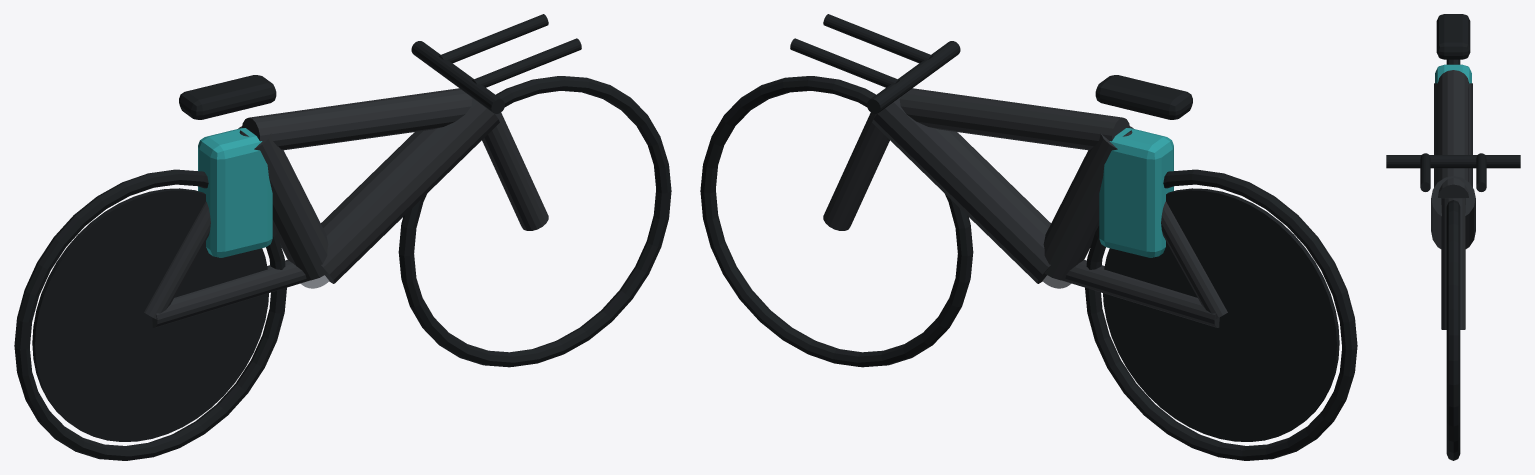
Rendered from bmc-speedmachine-kona-study.glb.
The picture shows the model from 3 angles, left to right: view 1: azimuth 30°, elevation 25°; view 2: azimuth 150°, elevation 25°; view 3: azimuth 270°, elevation 25°; orthographic projection. The views are drawn at different scales.
Visible parts, largest first — view 1: bmc-speedmachine-kona-study_REAR_DISC, bmc-speedmachine-kona-study_REAR_WHEEL, bmc-speedmachine-kona-study_FRONT_WHEEL, bmc-speedmachine-kona-study_DOWN_TUBE, bmc-speedmachine-kona-study_TOP_TUBE, bmc-speedmachine-kona-study_SPEEDMACHINE_STORAGE, bmc-speedmachine-kona-study_SEAT_TUBE, bmc-speedmachine-kona-study_CHAIN_STAY, bmc-speedmachine-kona-study_FORK, bmc-speedmachine-kona-study_SADDLE, bmc-speedmachine-kona-study_SEAT_STAY, bmc-speedmachine-kona-study_AERO_BASE (+2 smaller); view 2: bmc-speedmachine-kona-study_REAR_DISC, bmc-speedmachine-kona-study_REAR_WHEEL, bmc-speedmachine-kona-study_FRONT_WHEEL, bmc-speedmachine-kona-study_DOWN_TUBE, bmc-speedmachine-kona-study_TOP_TUBE, bmc-speedmachine-kona-study_SPEEDMACHINE_STORAGE, bmc-speedmachine-kona-study_SEAT_TUBE, bmc-speedmachine-kona-study_CHAIN_STAY, bmc-speedmachine-kona-study_FORK, bmc-speedmachine-kona-study_SADDLE, bmc-speedmachine-kona-study_SEAT_STAY, bmc-speedmachine-kona-study_AERO_BASE (+2 smaller); view 3: bmc-speedmachine-kona-study_FRONT_WHEEL, bmc-speedmachine-kona-study_TOP_TUBE, bmc-speedmachine-kona-study_AERO_BASE, bmc-speedmachine-kona-study_FORK, bmc-speedmachine-kona-study_SADDLE, bmc-speedmachine-kona-study_DOWN_TUBE, bmc-speedmachine-kona-study_SEAT_TUBE, bmc-speedmachine-kona-study_EXT_L, bmc-speedmachine-kona-study_EXT_R, bmc-speedmachine-kona-study_SPEEDMACHINE_STORAGE.
Boxes of the visible parts, left/top/right/bottom form: bmc-speedmachine-kona-study_REAR_DISC: left=32, top=188, right=268, bottom=441; bmc-speedmachine-kona-study_REAR_WHEEL: left=14, top=169, right=286, bottom=460; bmc-speedmachine-kona-study_FRONT_WHEEL: left=398, top=76, right=671, bottom=367; bmc-speedmachine-kona-study_DOWN_TUBE: left=321, top=97, right=499, bottom=283; bmc-speedmachine-kona-study_TOP_TUBE: left=242, top=88, right=472, bottom=150; bmc-speedmachine-kona-study_SPEEDMACHINE_STORAGE: left=198, top=128, right=272, bottom=257; bmc-speedmachine-kona-study_SEAT_TUBE: left=238, top=126, right=328, bottom=280; bmc-speedmachine-kona-study_CHAIN_STAY: left=152, top=260, right=309, bottom=327; bmc-speedmachine-kona-study_FORK: left=482, top=112, right=548, bottom=230; bmc-speedmachine-kona-study_SADDLE: left=179, top=75, right=276, bottom=119; bmc-speedmachine-kona-study_SEAT_STAY: left=144, top=130, right=248, bottom=319; bmc-speedmachine-kona-study_AERO_BASE: left=411, top=41, right=504, bottom=113; bmc-speedmachine-kona-study_REAR_DISC: left=1103, top=188, right=1339, bottom=441; bmc-speedmachine-kona-study_REAR_WHEEL: left=1085, top=169, right=1357, bottom=460; bmc-speedmachine-kona-study_FRONT_WHEEL: left=700, top=76, right=973, bottom=367; bmc-speedmachine-kona-study_DOWN_TUBE: left=872, top=97, right=1050, bottom=283; bmc-speedmachine-kona-study_TOP_TUBE: left=899, top=88, right=1129, bottom=150; bmc-speedmachine-kona-study_SPEEDMACHINE_STORAGE: left=1099, top=128, right=1173, bottom=257; bmc-speedmachine-kona-study_SEAT_TUBE: left=1043, top=126, right=1133, bottom=280; bmc-speedmachine-kona-study_CHAIN_STAY: left=1062, top=260, right=1219, bottom=327; bmc-speedmachine-kona-study_FORK: left=823, top=112, right=889, bottom=230; bmc-speedmachine-kona-study_SADDLE: left=1095, top=75, right=1192, bottom=119; bmc-speedmachine-kona-study_SEAT_STAY: left=1123, top=130, right=1227, bottom=319; bmc-speedmachine-kona-study_AERO_BASE: left=867, top=41, right=960, bottom=113; bmc-speedmachine-kona-study_FRONT_WHEEL: left=1446, top=200, right=1460, bottom=460; bmc-speedmachine-kona-study_TOP_TUBE: left=1438, top=70, right=1468, bottom=197; bmc-speedmachine-kona-study_AERO_BASE: left=1386, top=155, right=1520, bottom=168; bmc-speedmachine-kona-study_FORK: left=1441, top=198, right=1465, bottom=329; bmc-speedmachine-kona-study_SADDLE: left=1436, top=14, right=1470, bottom=59; bmc-speedmachine-kona-study_DOWN_TUBE: left=1431, top=176, right=1475, bottom=248; bmc-speedmachine-kona-study_SEAT_TUBE: left=1434, top=83, right=1472, bottom=187; bmc-speedmachine-kona-study_EXT_L: left=1420, top=153, right=1430, bottom=191; bmc-speedmachine-kona-study_EXT_R: left=1476, top=153, right=1486, bottom=191; bmc-speedmachine-kona-study_SPEEDMACHINE_STORAGE: left=1435, top=64, right=1471, bottom=83.
Bounding box in the file's own units: 1.71 × 0.873 × 0.36.
